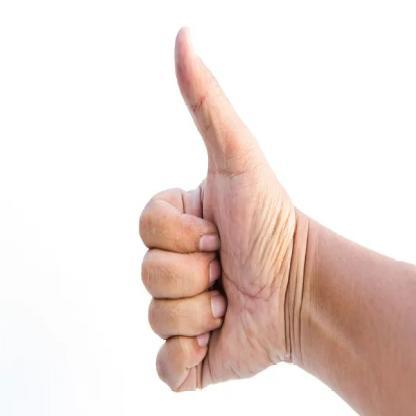thumb_up: (137, 19, 296, 394)
